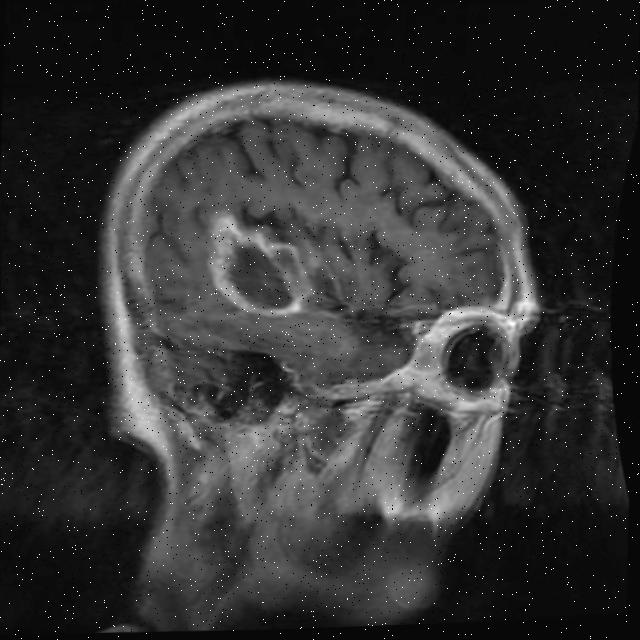Glioma: (205, 205, 319, 319)
